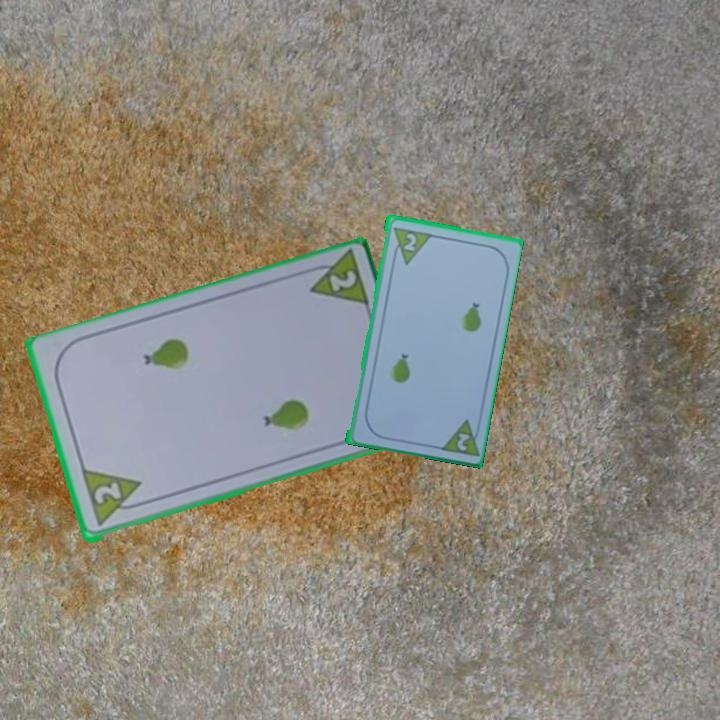2p: (78, 467, 149, 530), (435, 415, 483, 459), (325, 267, 359, 295), (400, 229, 419, 254)
